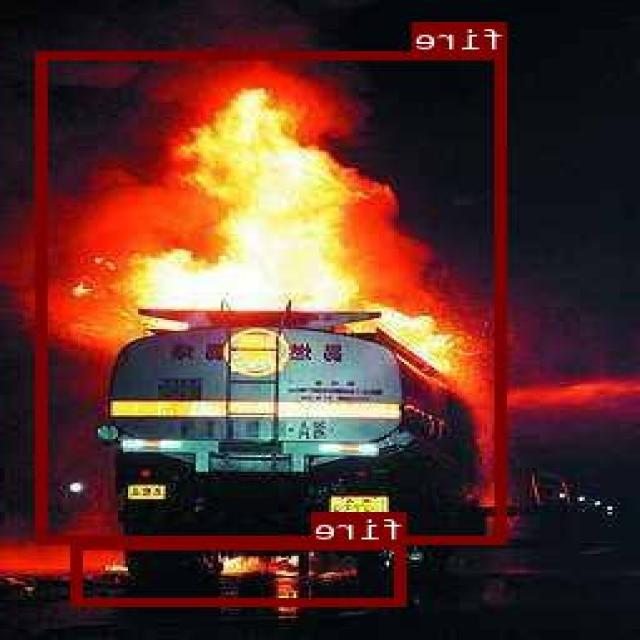fire: (38, 50, 510, 542), (75, 540, 408, 604)
